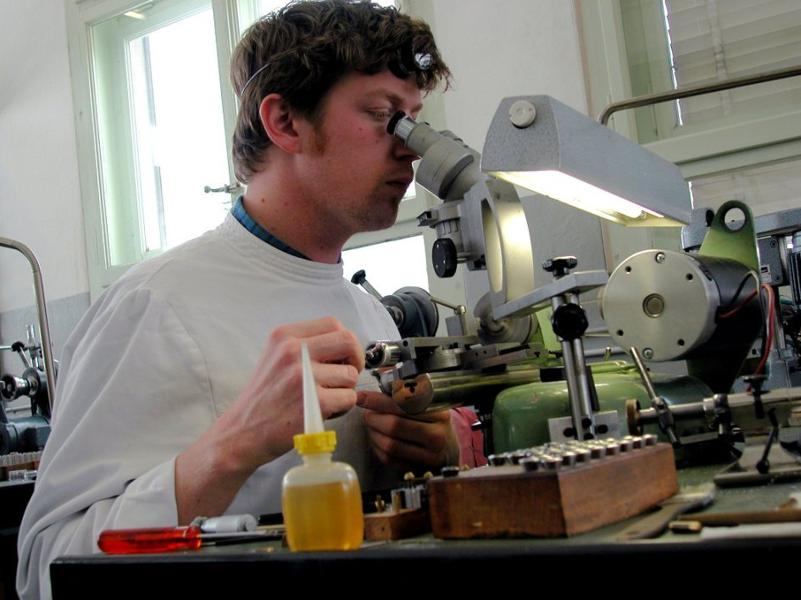person: (18, 5, 463, 597)
